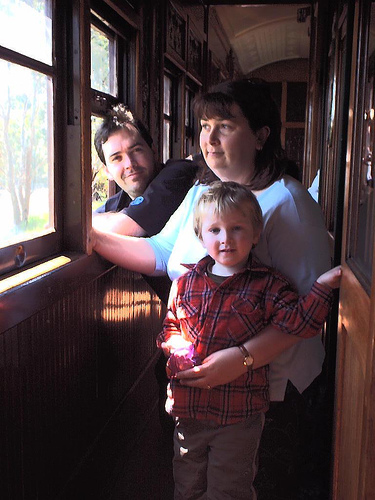without_mask: (197, 109, 269, 176), (195, 197, 259, 263), (100, 127, 155, 193)
